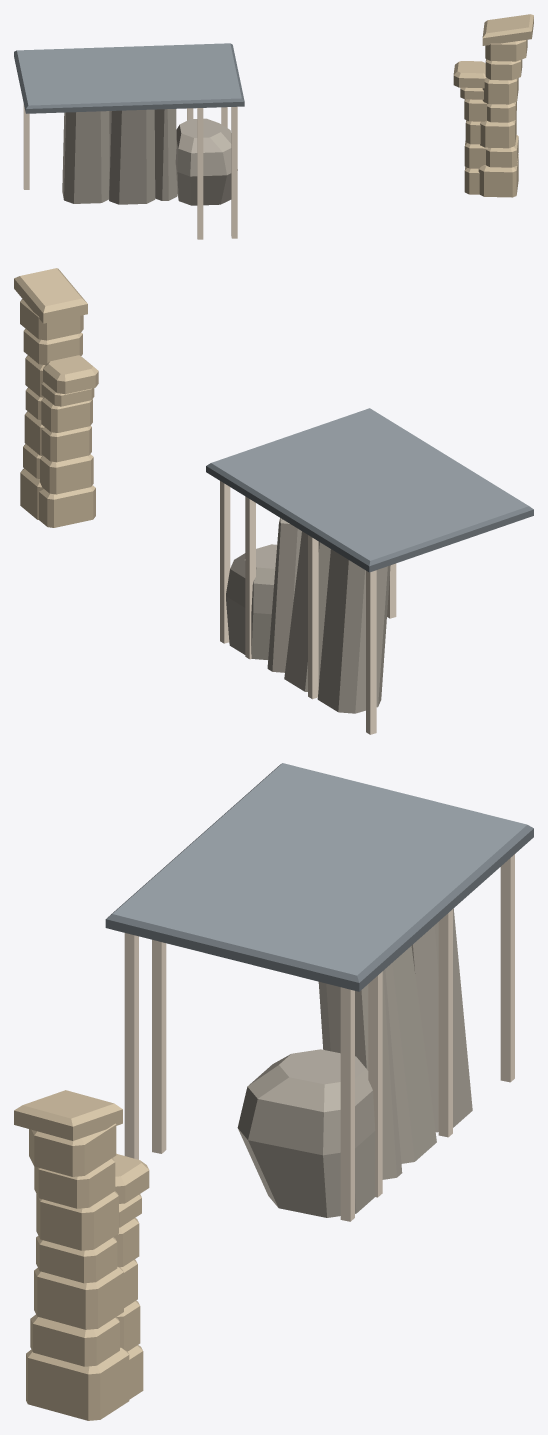
The picture shows the model from 3 angles, top to bottom: view 1: azimuth 30°, elevation 25°; view 2: azimuth 150°, elevation 25°; view 3: azimuth 270°, elevation 25°; orthographic projection. The views are drawn at different scales.
Parts seen in each view (by area): view 1: whitewater-center-climbing-center; view 2: whitewater-center-climbing-center; view 3: whitewater-center-climbing-center.
Part boxes in pixels (box(x1,y1,x2,y2)): whitewater-center-climbing-center: box(14, 14, 533, 239); whitewater-center-climbing-center: box(14, 268, 533, 734); whitewater-center-climbing-center: box(14, 763, 533, 1420).
Size of the model in its own units: 39.48 by 13.94 by 21.28.
